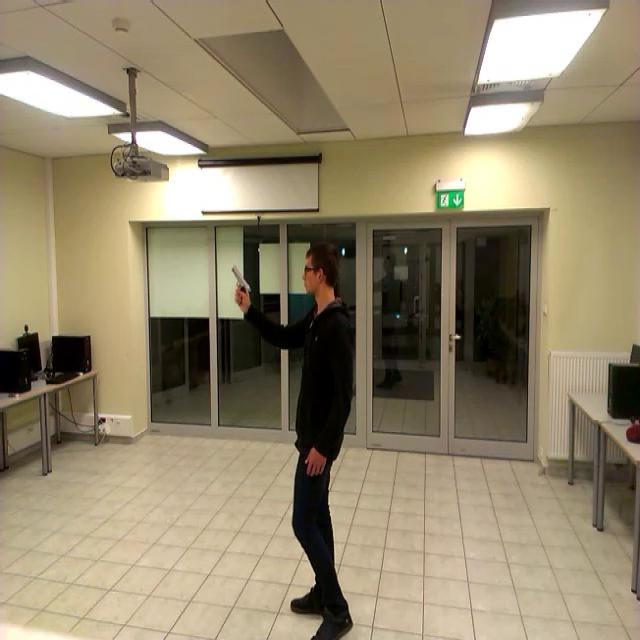weapon: (228, 266, 248, 310)
